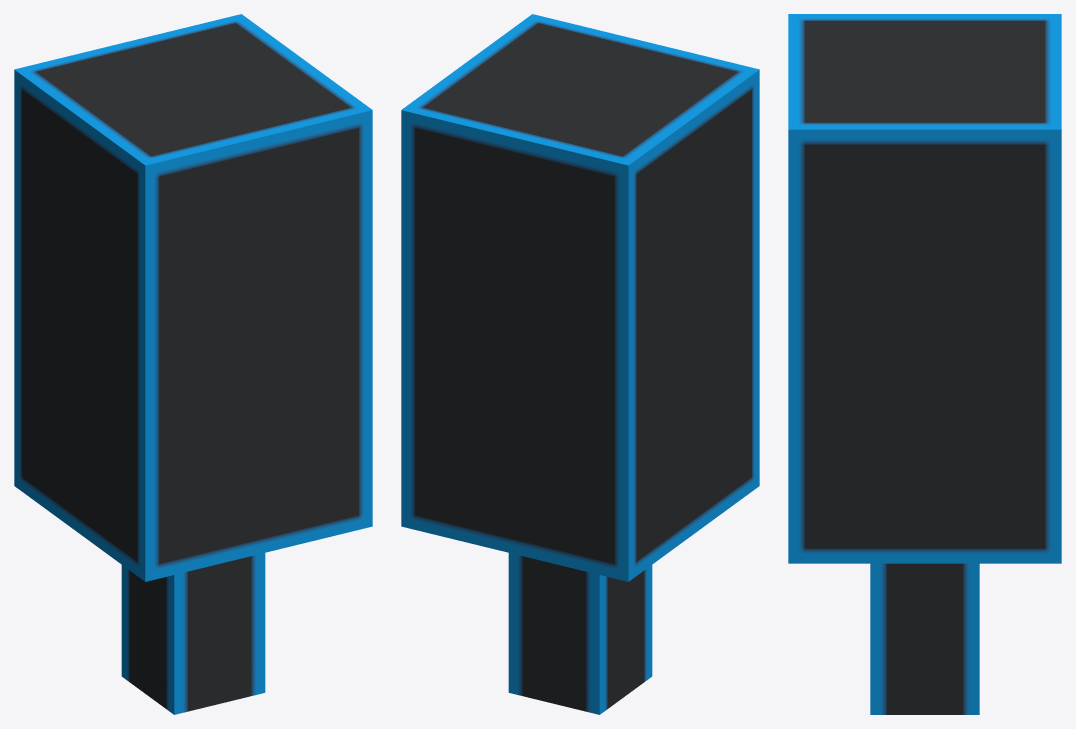
The model's file is PacMan_Tree1.fbx.
3 views of the same model, side by side, from view 1: azimuth 30°, elevation 25°; view 2: azimuth 150°, elevation 25°; view 3: azimuth 270°, elevation 25° (orthographic). The views are drawn at different scales.
Visible parts, largest first — view 1: Matrix; view 2: Matrix; view 3: Matrix.
Boxes of the visible parts, bbox=[...] form: Matrix: bbox=[14, 14, 372, 714]; Matrix: bbox=[401, 14, 759, 714]; Matrix: bbox=[788, 14, 1061, 714].
Size of the model in its own units: 20 by 50 by 20.
Materials: 1 (1 with a texture image).
